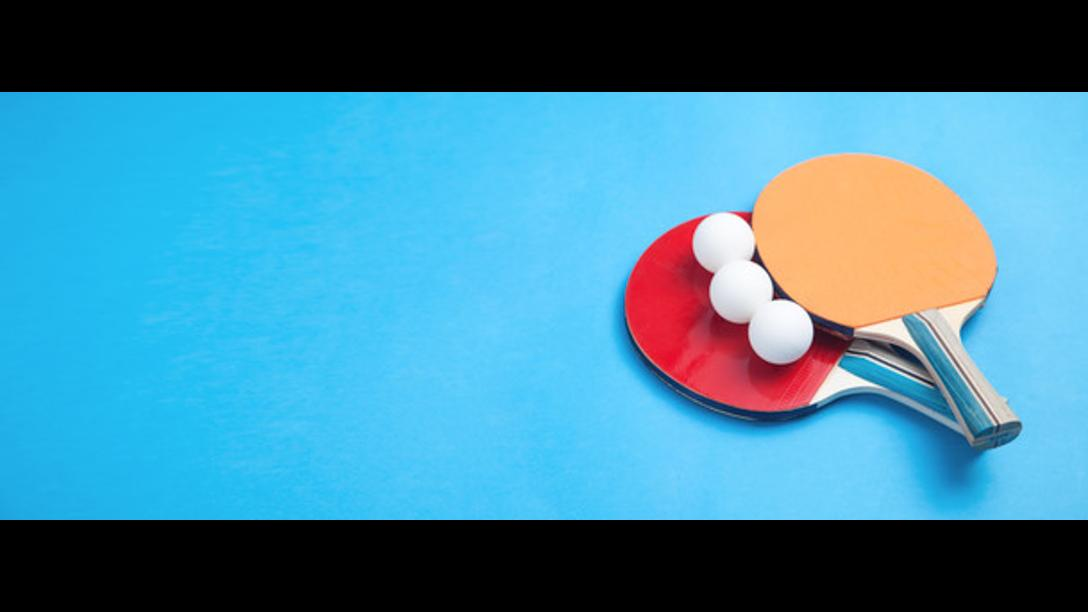Table-Tennis-Ball: (748, 300, 812, 364), (712, 262, 773, 322), (694, 213, 754, 269)
